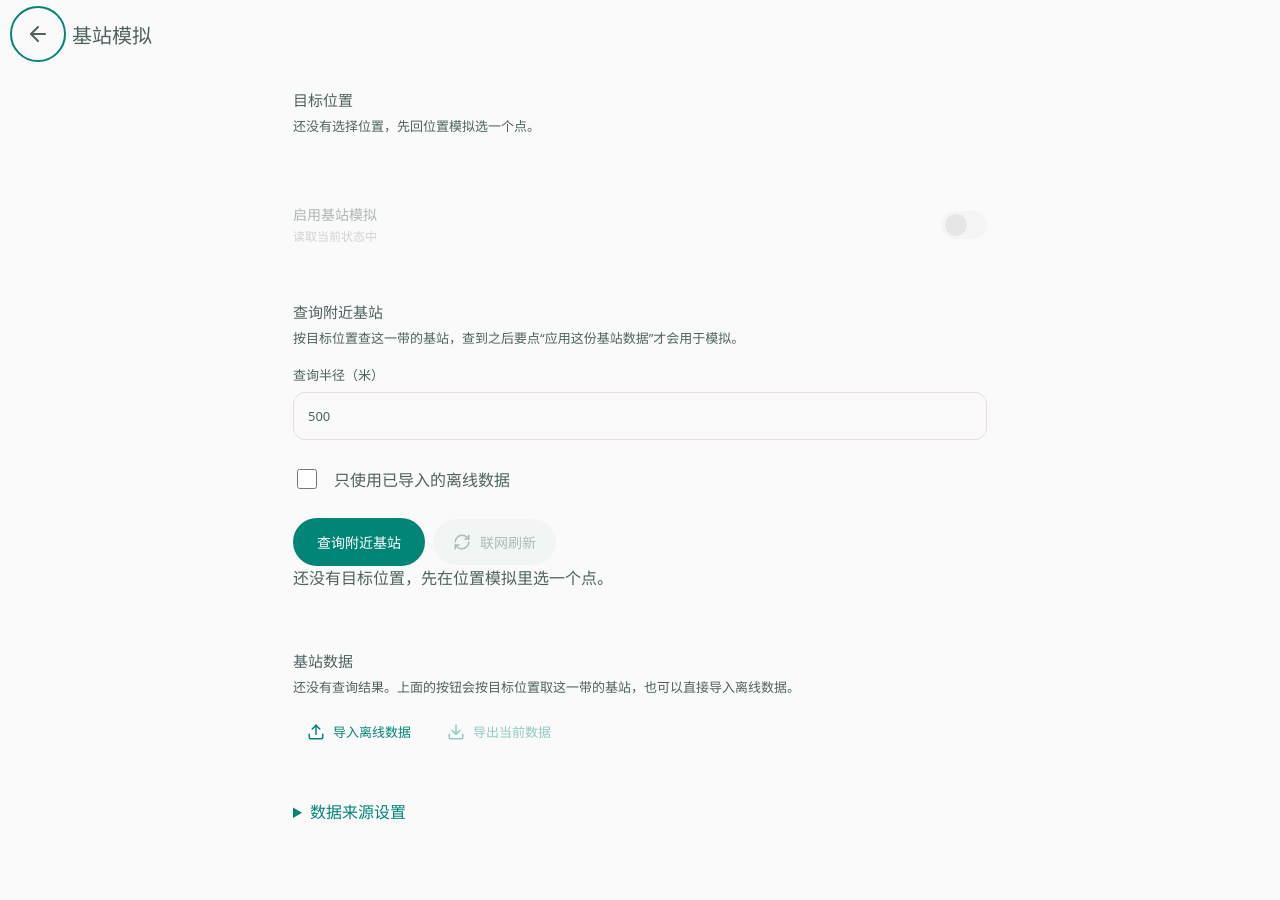
it: says what is missing instead of failing silently when there is no target
Check: the text "还没有目标位置，先在位置模拟里选一个点。" is shown, box [293, 567, 613, 589]
Click the button "查询附近基站": (359, 542) [293, 518, 425, 566]
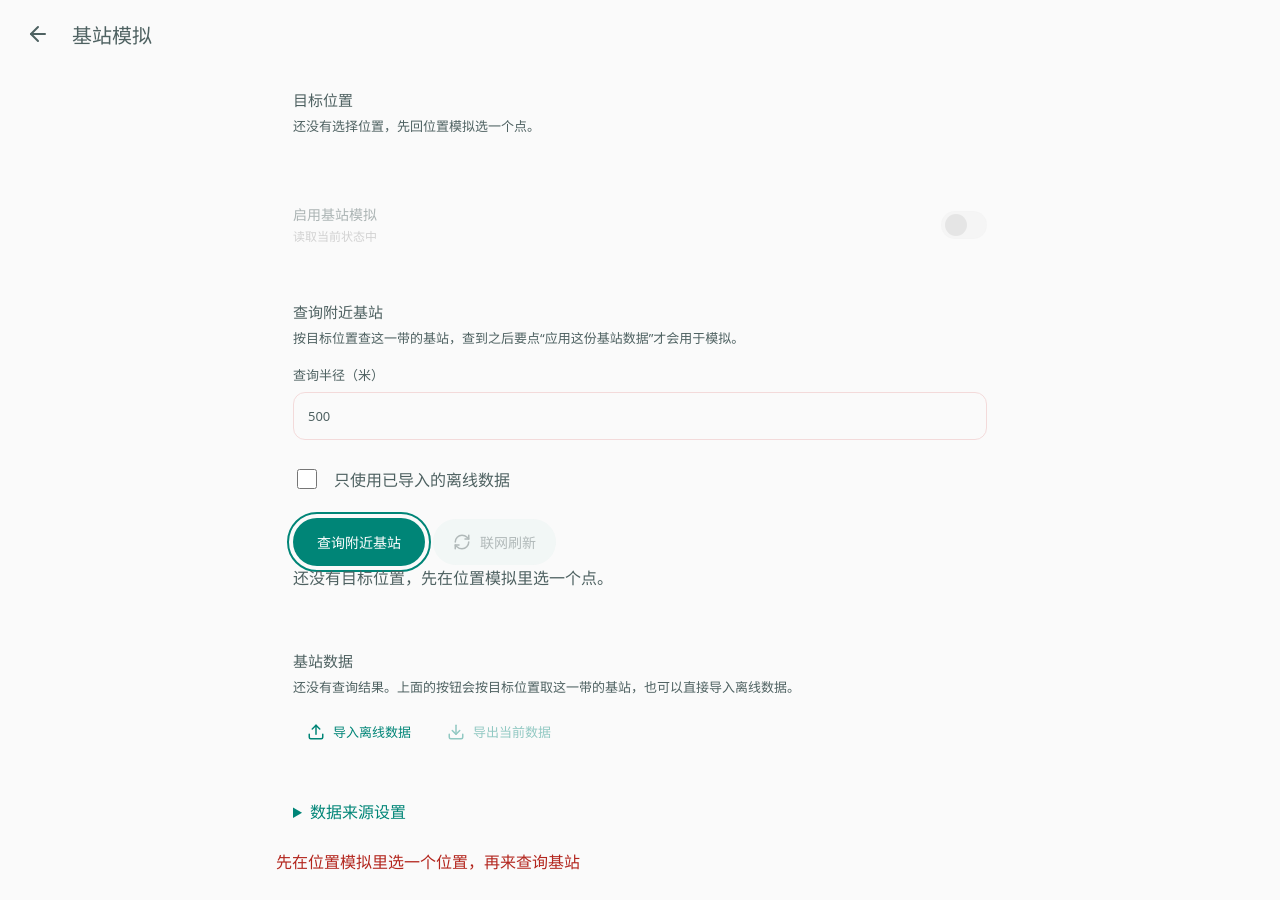
Check: the message "先在位置模拟里选一个位置，再来查询基站" is shown, box [276, 851, 580, 873]
